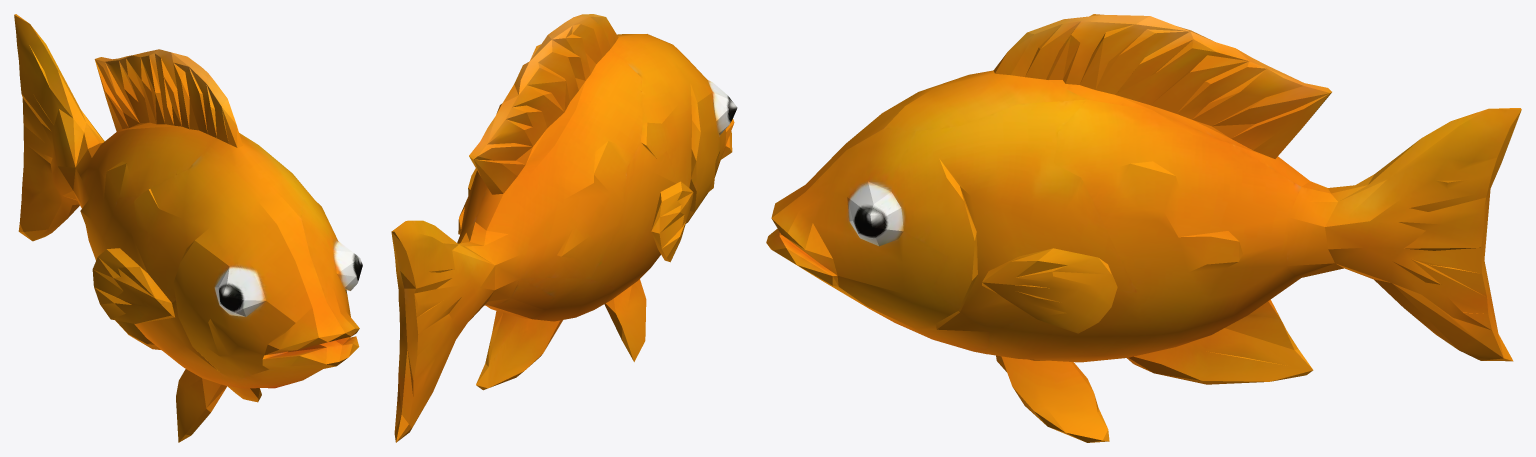
The model's file is fish.glb.
3 renders of one model, left to right at view 1: azimuth 30°, elevation 25°; view 2: azimuth 150°, elevation 25°; view 3: azimuth 270°, elevation 25°, orthographic. The views are drawn at different scales.
Visible parts, largest first — view 1: model; view 2: model; view 3: model.
Part boxes in pixels (x1,y1,x2,y2): model: (14,14,362,442); model: (391,14,737,442); model: (766,14,1521,442).
Bounding box in the file's own units: 0.6609 × 1.14 × 1.9.
Materials: 1 (1 with a texture image).
